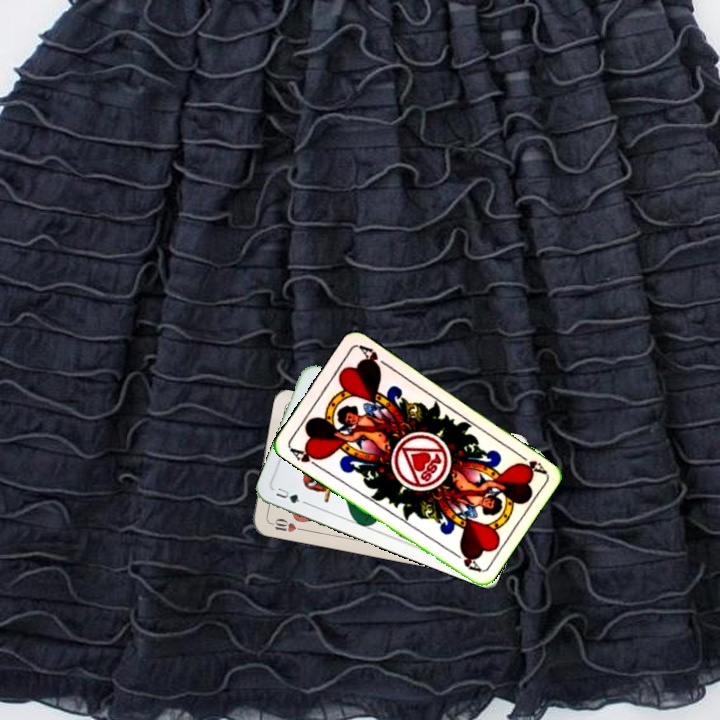GU: (272, 483, 302, 506)
H10: (265, 514, 305, 535)
HA: (512, 447, 548, 477), (286, 444, 324, 471)
